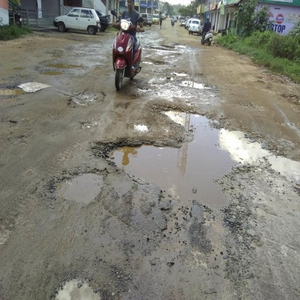pothole: (97, 103, 271, 202), (50, 166, 109, 206)
